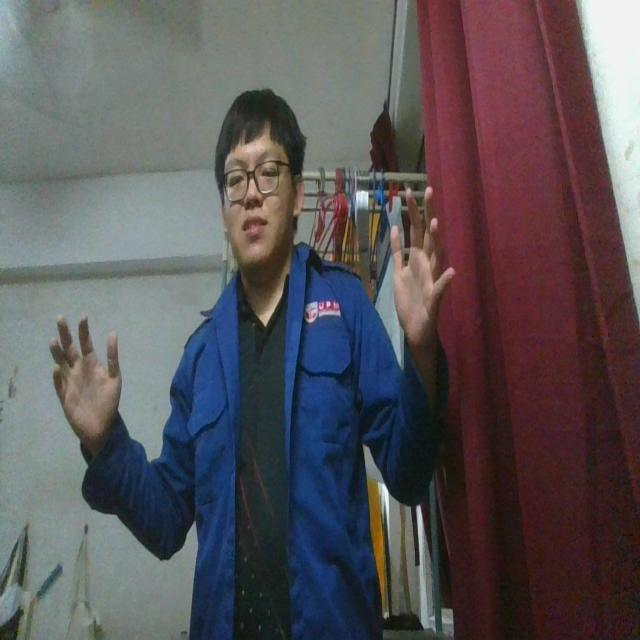person_with_labcoat: (50, 90, 453, 639)
